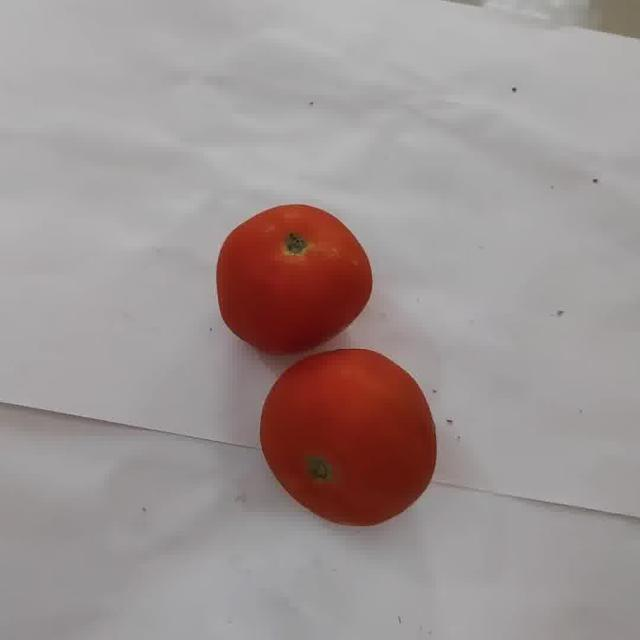Tomato: (260, 349, 436, 526), (216, 205, 372, 356)
